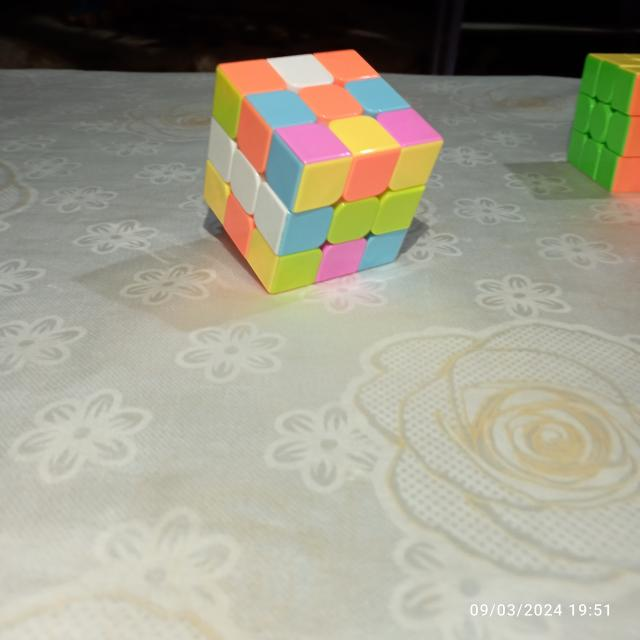Rub: (197, 46, 445, 300), (566, 49, 640, 199)
